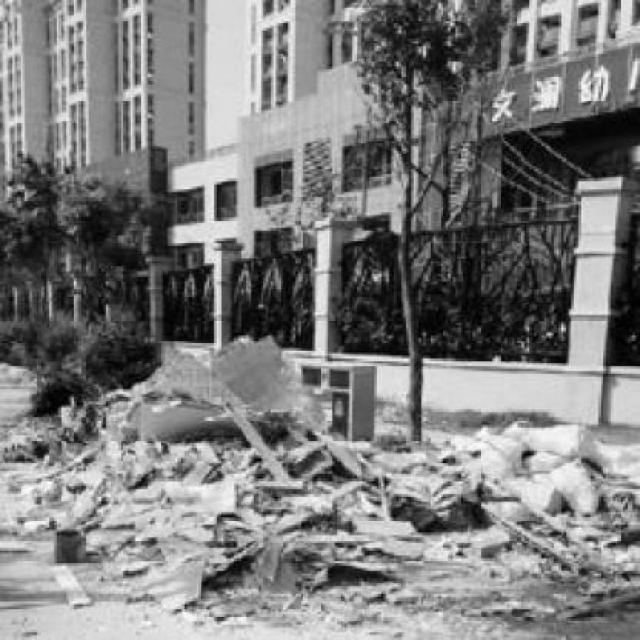garbage: (2, 348, 640, 630)
